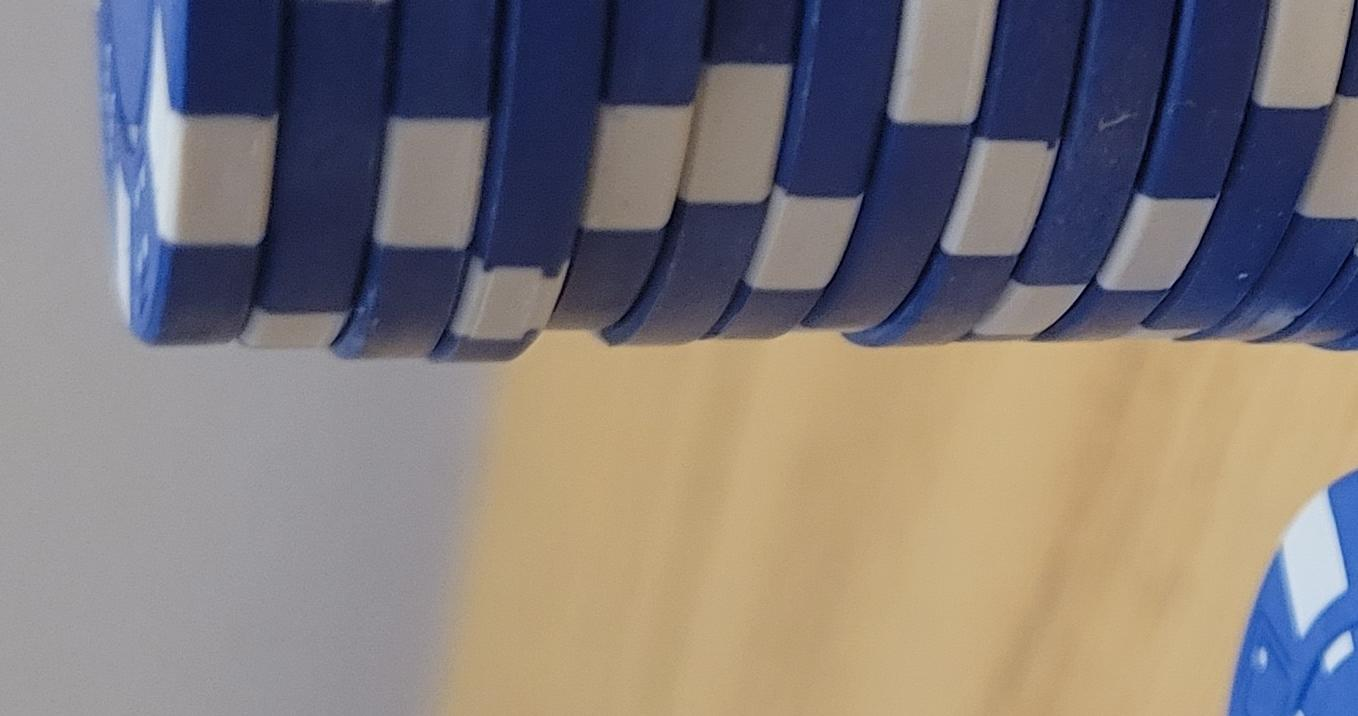Chip: (1, 400, 891, 716)
